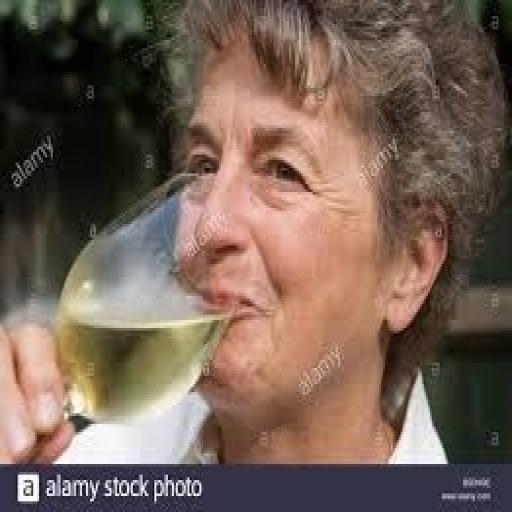drinking: (47, 168, 234, 429)
